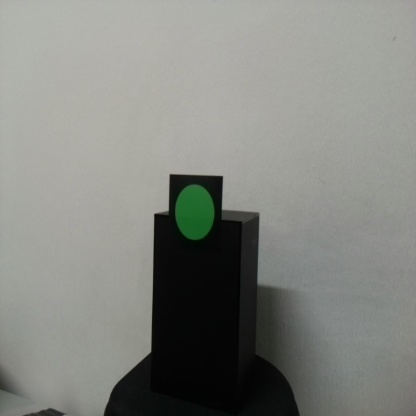id_5: (169, 174, 223, 251)
